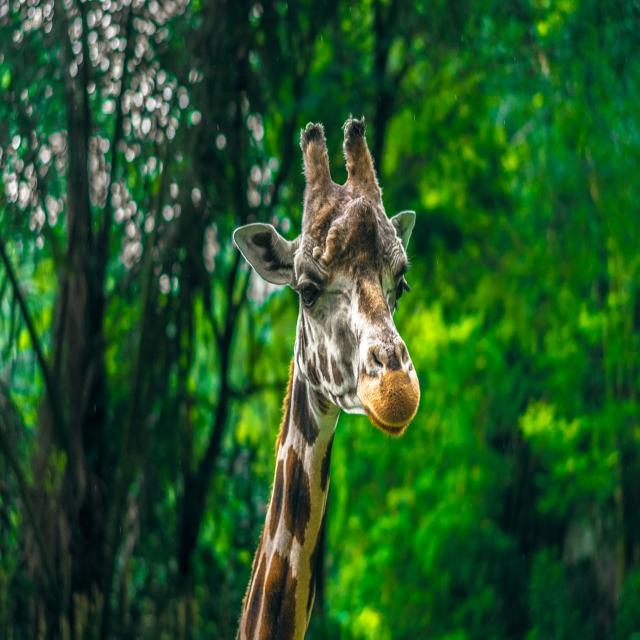Giraffe: (233, 116, 421, 640)
